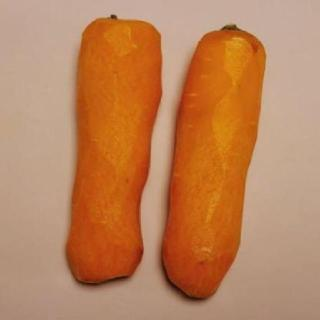carrot: (160, 24, 268, 302), (60, 12, 166, 290)
